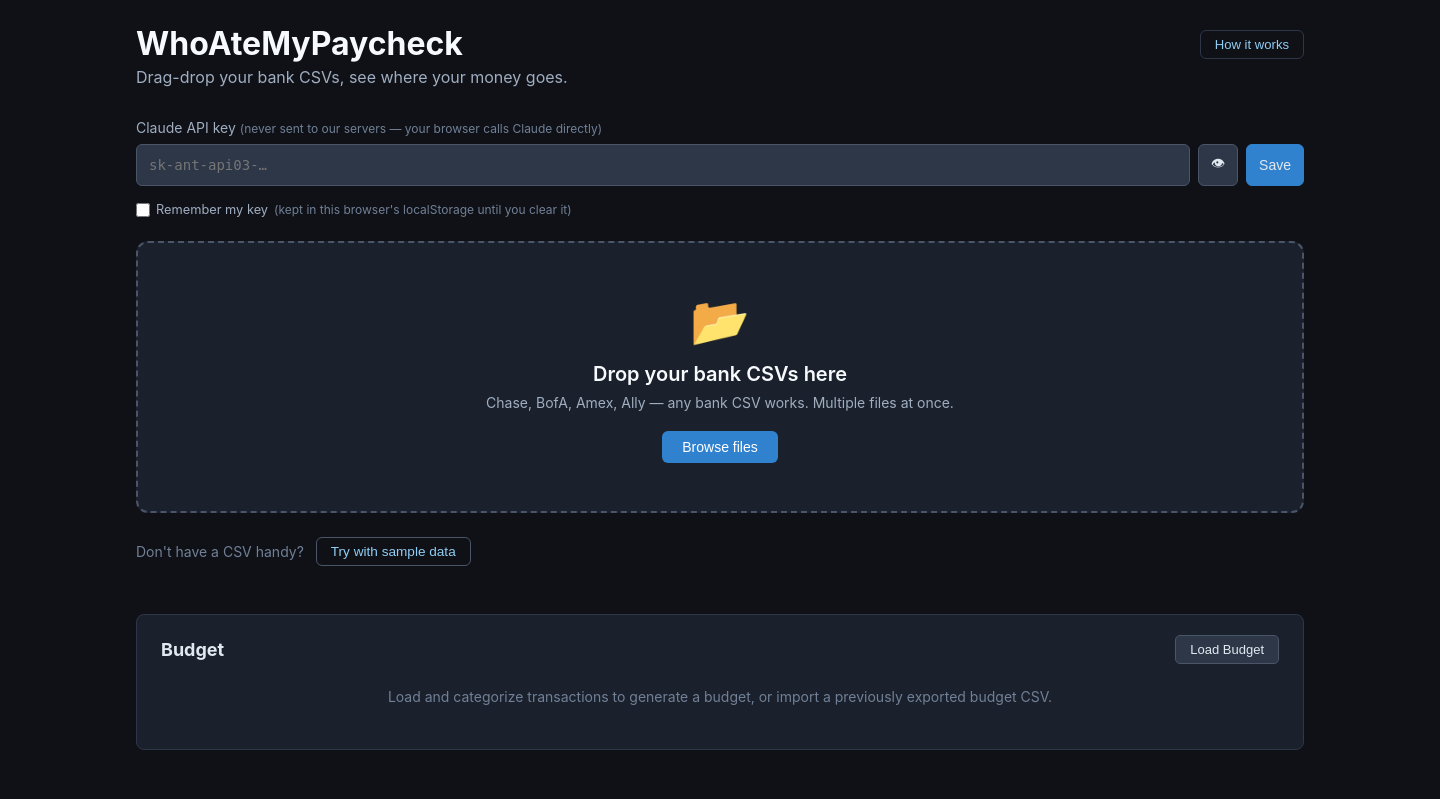
Test: App — demo mode › fresh browser, zero files, zero key: one click populates the Sankey + table, labeled and dismissible
Click the button "Try with sample data" at (393, 552), box [316,537,471,566]
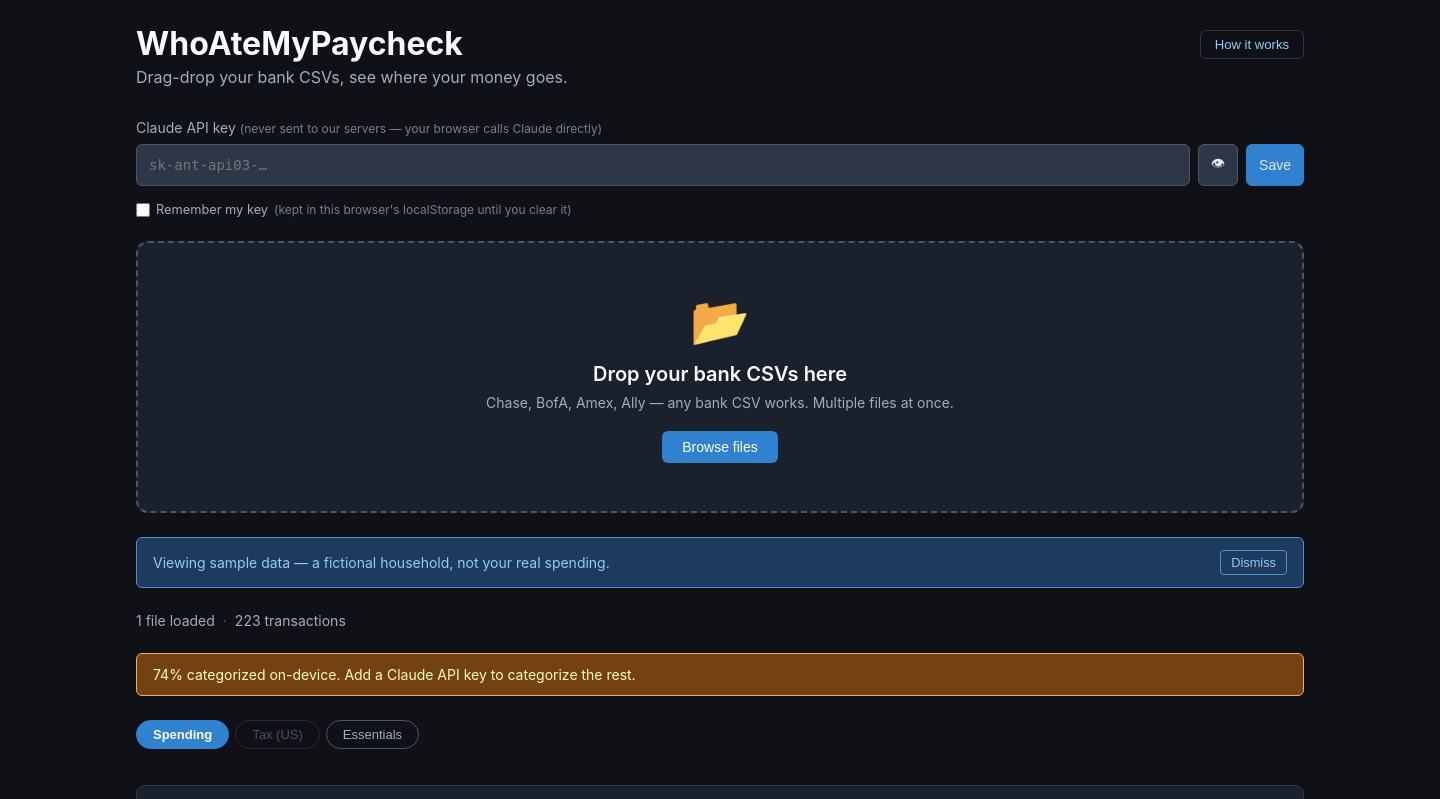
Expected: the text "Viewing sample data" is shown, [153,554,610,571]
# Dismiss returns to a clean empty state
Click the button "Dismiss" at (1254, 562), box [1220,550,1287,575]
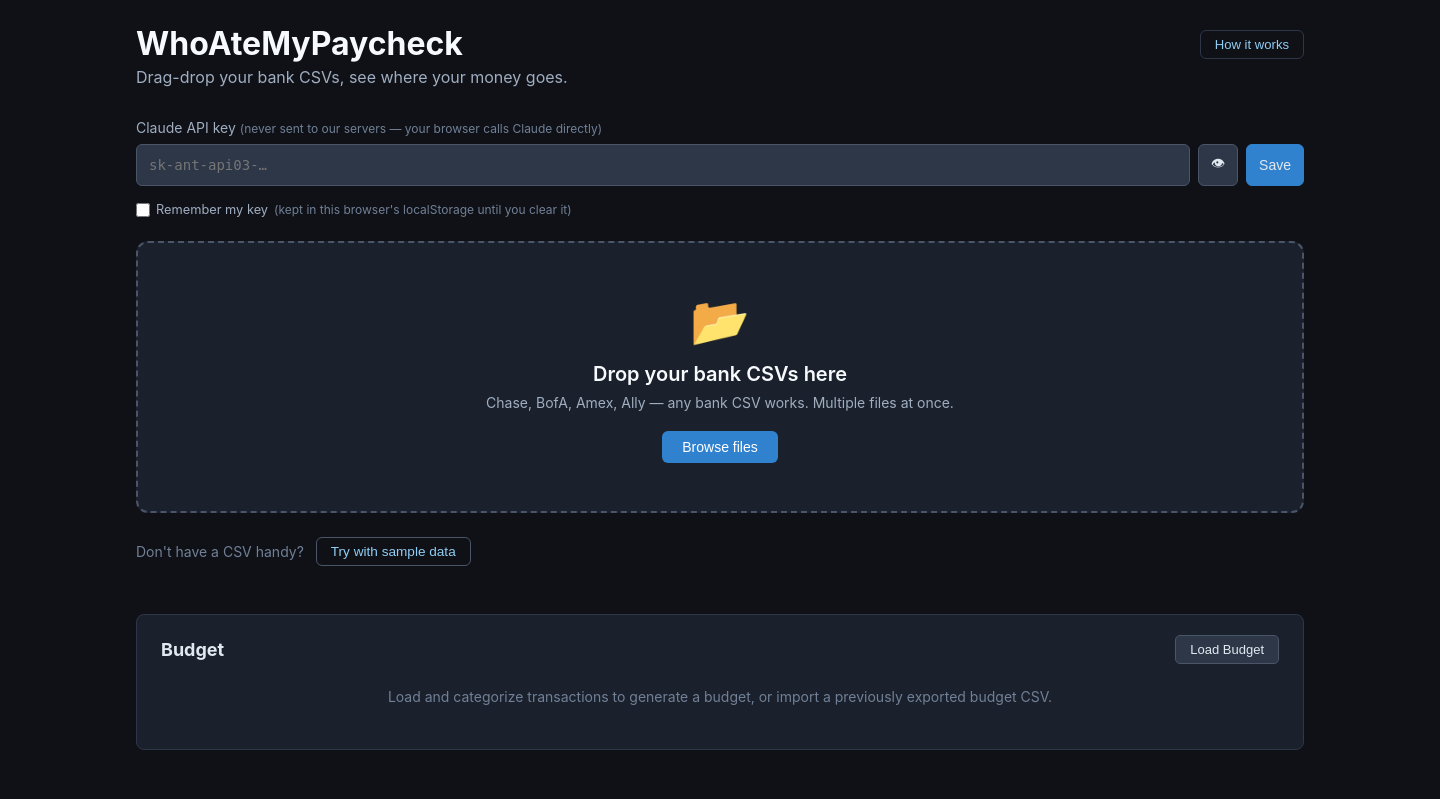
Expected: the text "Viewing sample data" is gone
Expected: the button "Try with sample data" is shown, [316,537,471,566]
